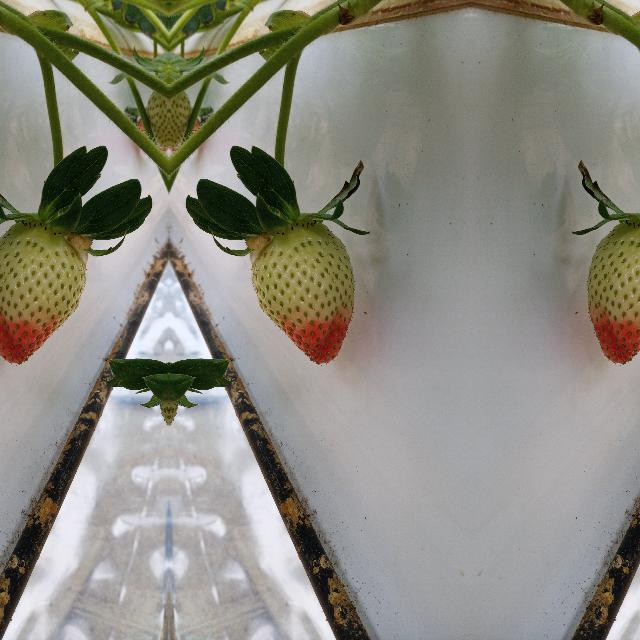Health_50: (249, 217, 355, 365), (0, 217, 87, 365), (586, 217, 640, 365)
